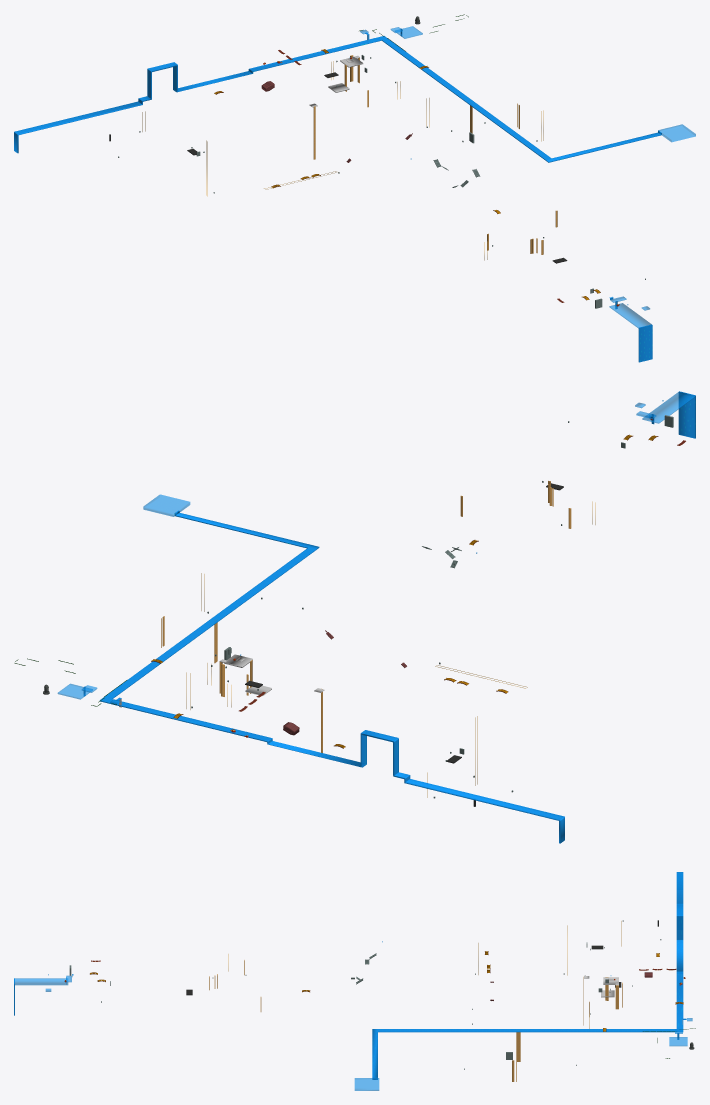
The model's file is Level8LowCombine.fbx.
3 views of the same model, one above another, from view 1: azimuth 30°, elevation 25°; view 2: azimuth 150°, elevation 25°; view 3: azimuth 270°, elevation 25° (orthographic). The views are drawn at different scales.
Visible parts, largest first — view 1: River141; view 2: River141, River93; view 3: River141, WaterStill75.
Boxes of the visible parts, x1,y1,x2,y2 form: River141: (14, 36, 661, 162); River141: (99, 510, 564, 843); River93: (678, 391, 695, 438); River141: (372, 872, 683, 1079); WaterStill75: (15, 978, 68, 985).
Size of what is drawn, in the model's own units: 446 by 74.2 by 576.
